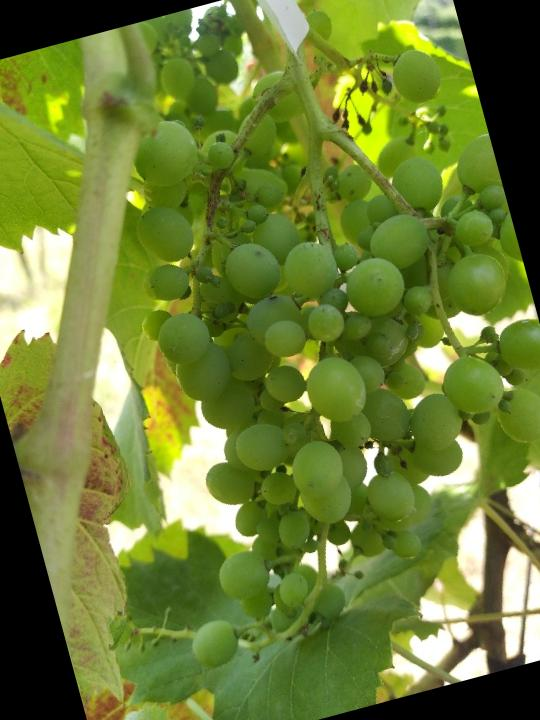grape: (48, 23, 540, 679)
